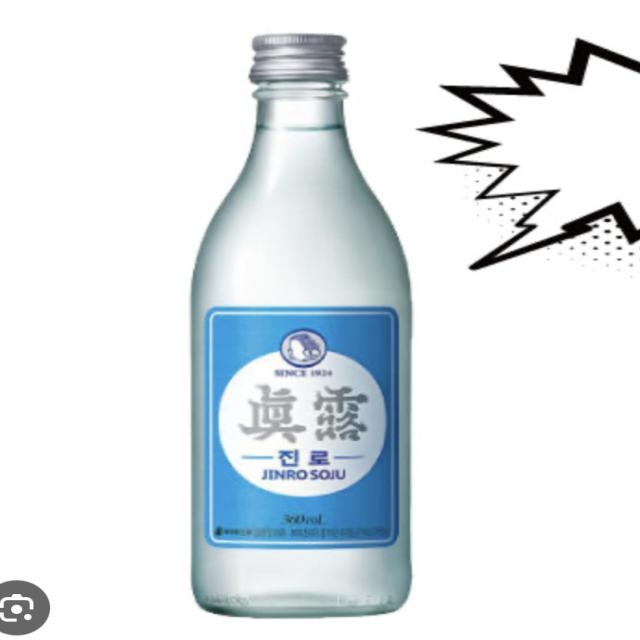recyclable: (166, 73, 440, 624)
